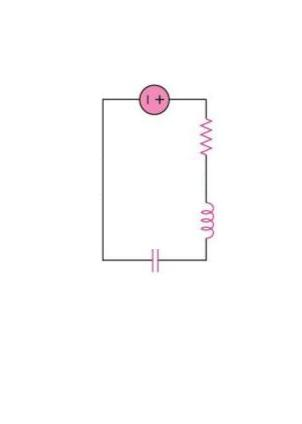resistor: (181, 98, 226, 170)
